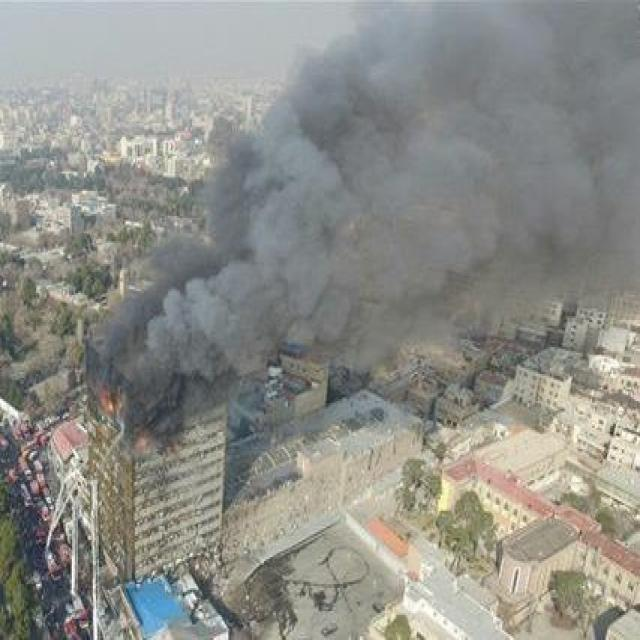Smoke: (112, 0, 640, 446)
